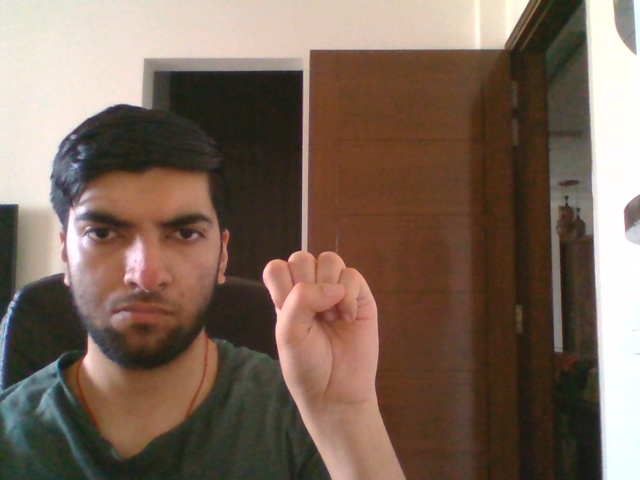LetterE: (262, 251, 380, 406)
